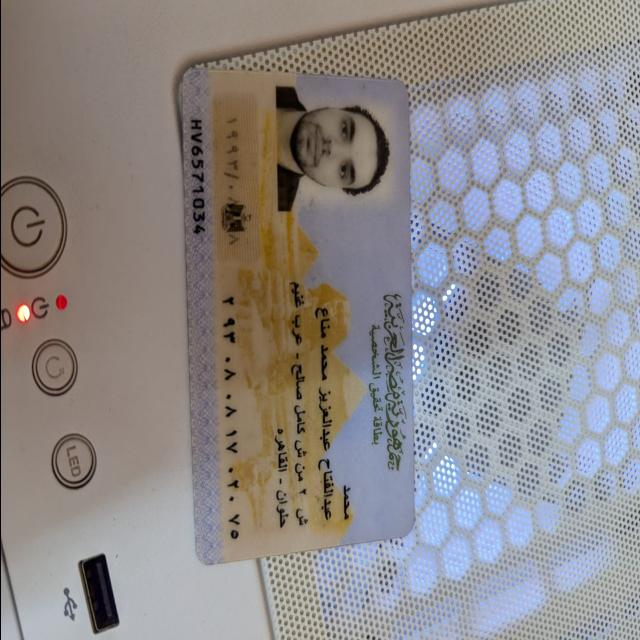id_card: (171, 54, 421, 575)
